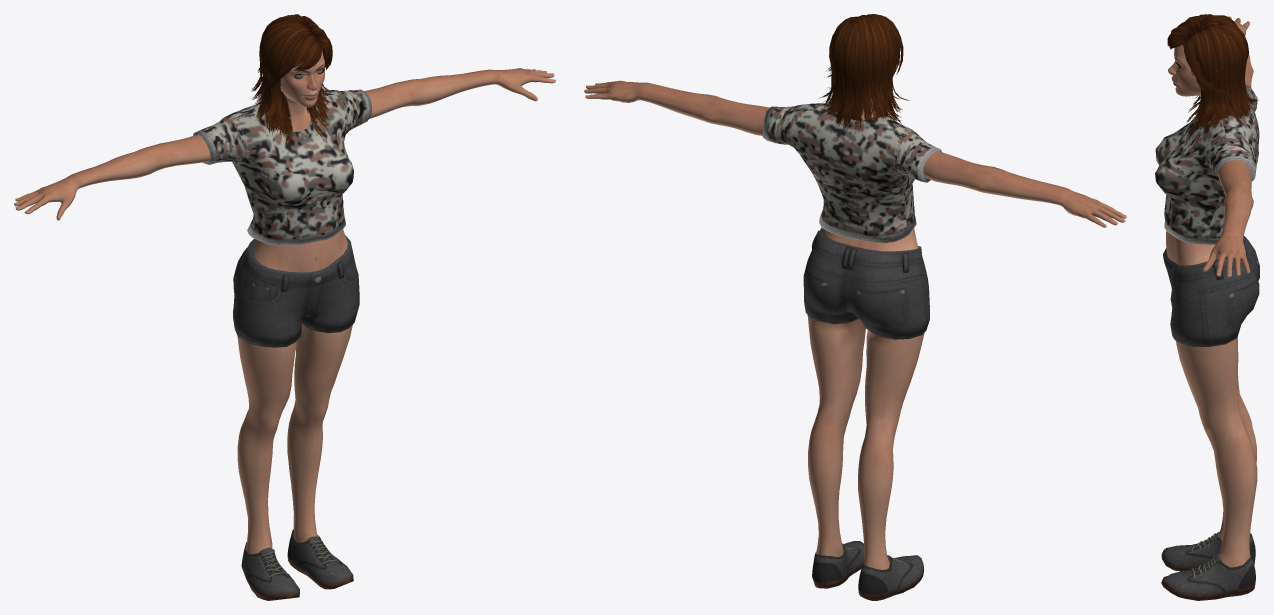
Rendered from Fuse.obj.
The picture shows the model from 3 angles, left to right: view 1: azimuth 30°, elevation 25°; view 2: azimuth 150°, elevation 25°; view 3: azimuth 270°, elevation 25°; orthographic projection.
Visible parts, largest first — view 1: Body, Tops, Bottoms, Hair, Shoes; view 2: Body, Tops, Bottoms, Hair, Shoes; view 3: Body, Tops, Bottoms, Hair, Shoes.
Boxes of the visible parts, x1,y1,x2,y2 form: Body: (14, 49, 555, 554); Tops: (193, 89, 371, 245); Bottoms: (233, 235, 359, 347); Hair: (251, 14, 333, 146); Shoes: (241, 529, 353, 600); Body: (584, 65, 1126, 569); Tops: (762, 103, 941, 243); Bottoms: (803, 227, 929, 339); Hair: (819, 14, 909, 132); Shoes: (812, 541, 923, 600); Body: (1166, 16, 1257, 567); Tops: (1155, 84, 1259, 244); Bottoms: (1163, 235, 1259, 346); Hair: (1167, 14, 1258, 142); Shoes: (1161, 531, 1255, 600).
Size of the model in its own units: 179 by 180 by 30.29.
Materials: 1 (1 with a texture image).
